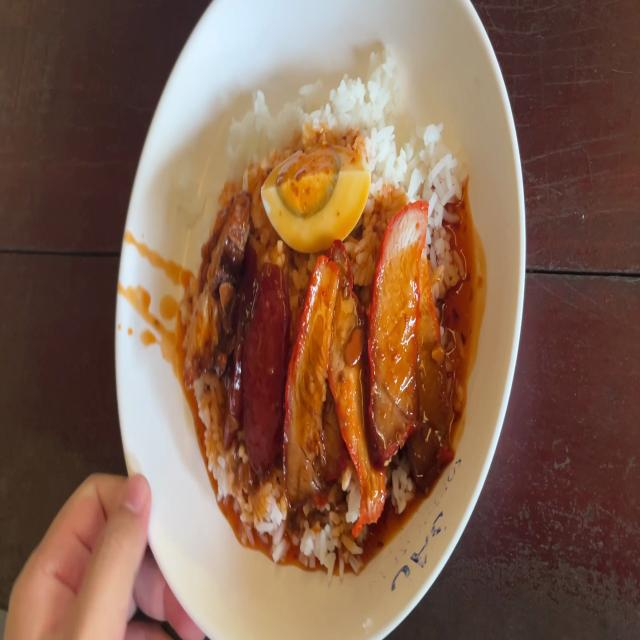red_pork_and_crispy_pork: (263, 147, 370, 252)
stir_fried_basil: (239, 265, 284, 462)
